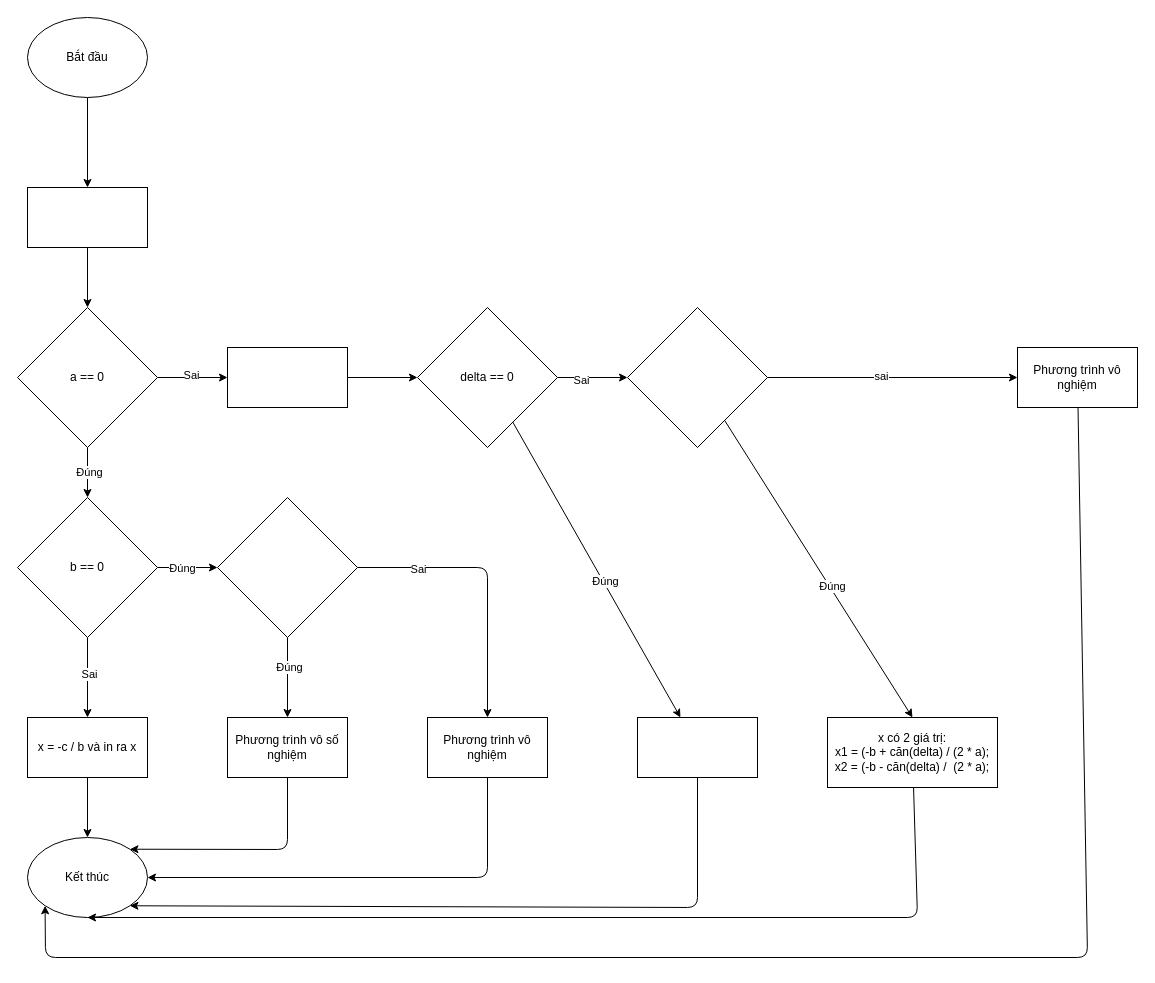
The diagram is 1155 pixels wide and 983 high, and some of its shapes have lost their labels. Here are the shapes that lost their labels. From the top down, the centre of each, then its label:
point (87, 217): Nhập a, b, c và khai báo biến x, delta
point (287, 377): delta = b * b - 4 * a * c
point (697, 377): delta > 0
point (287, 567): c == 0
point (697, 747): x = -b / (2*a)
